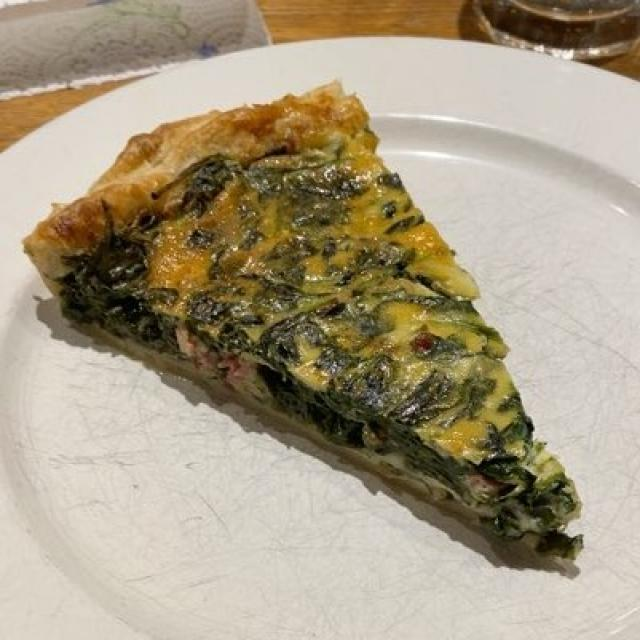quiche: (31, 87, 566, 542)
